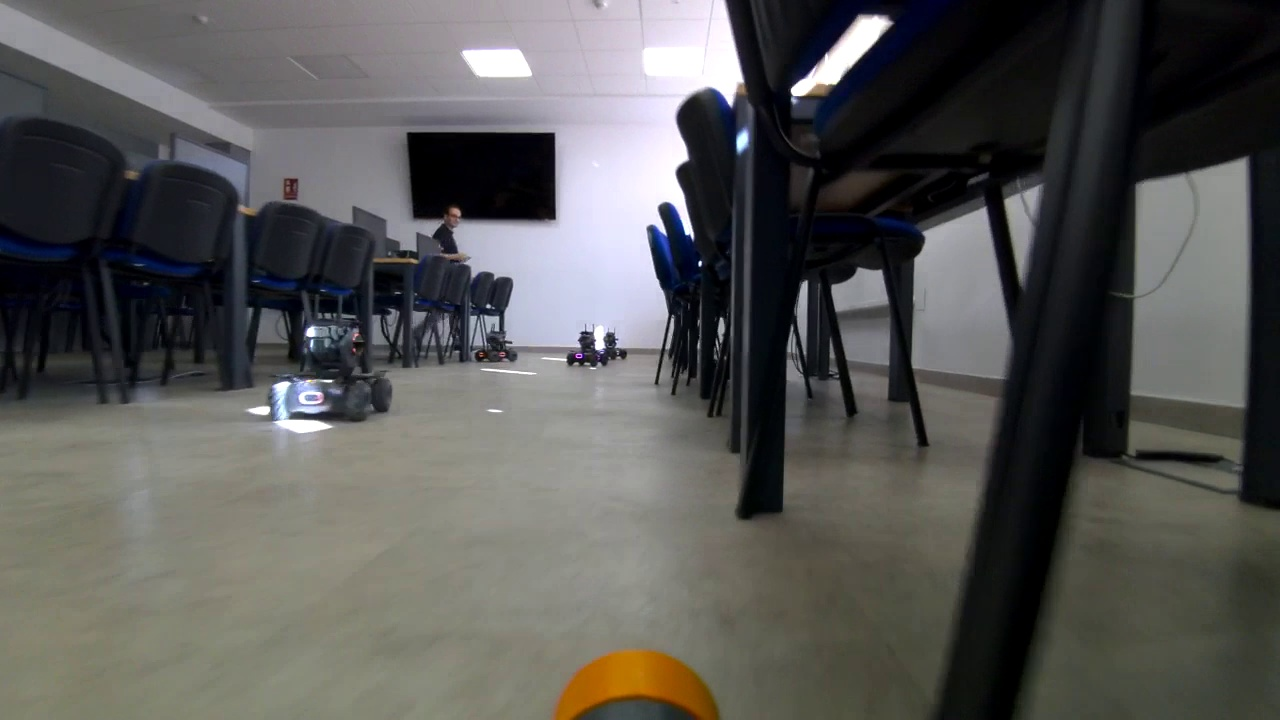robot: (267, 312, 400, 425), (473, 322, 521, 366), (573, 324, 601, 369)
